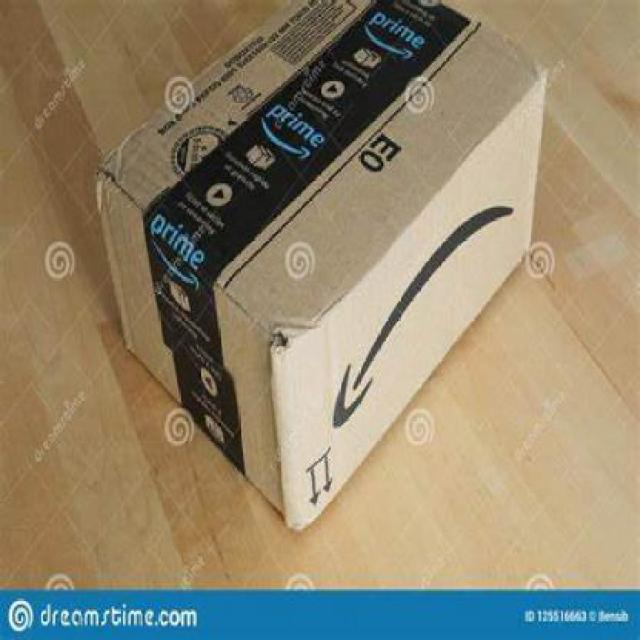cardboxes: (94, 0, 549, 534)
